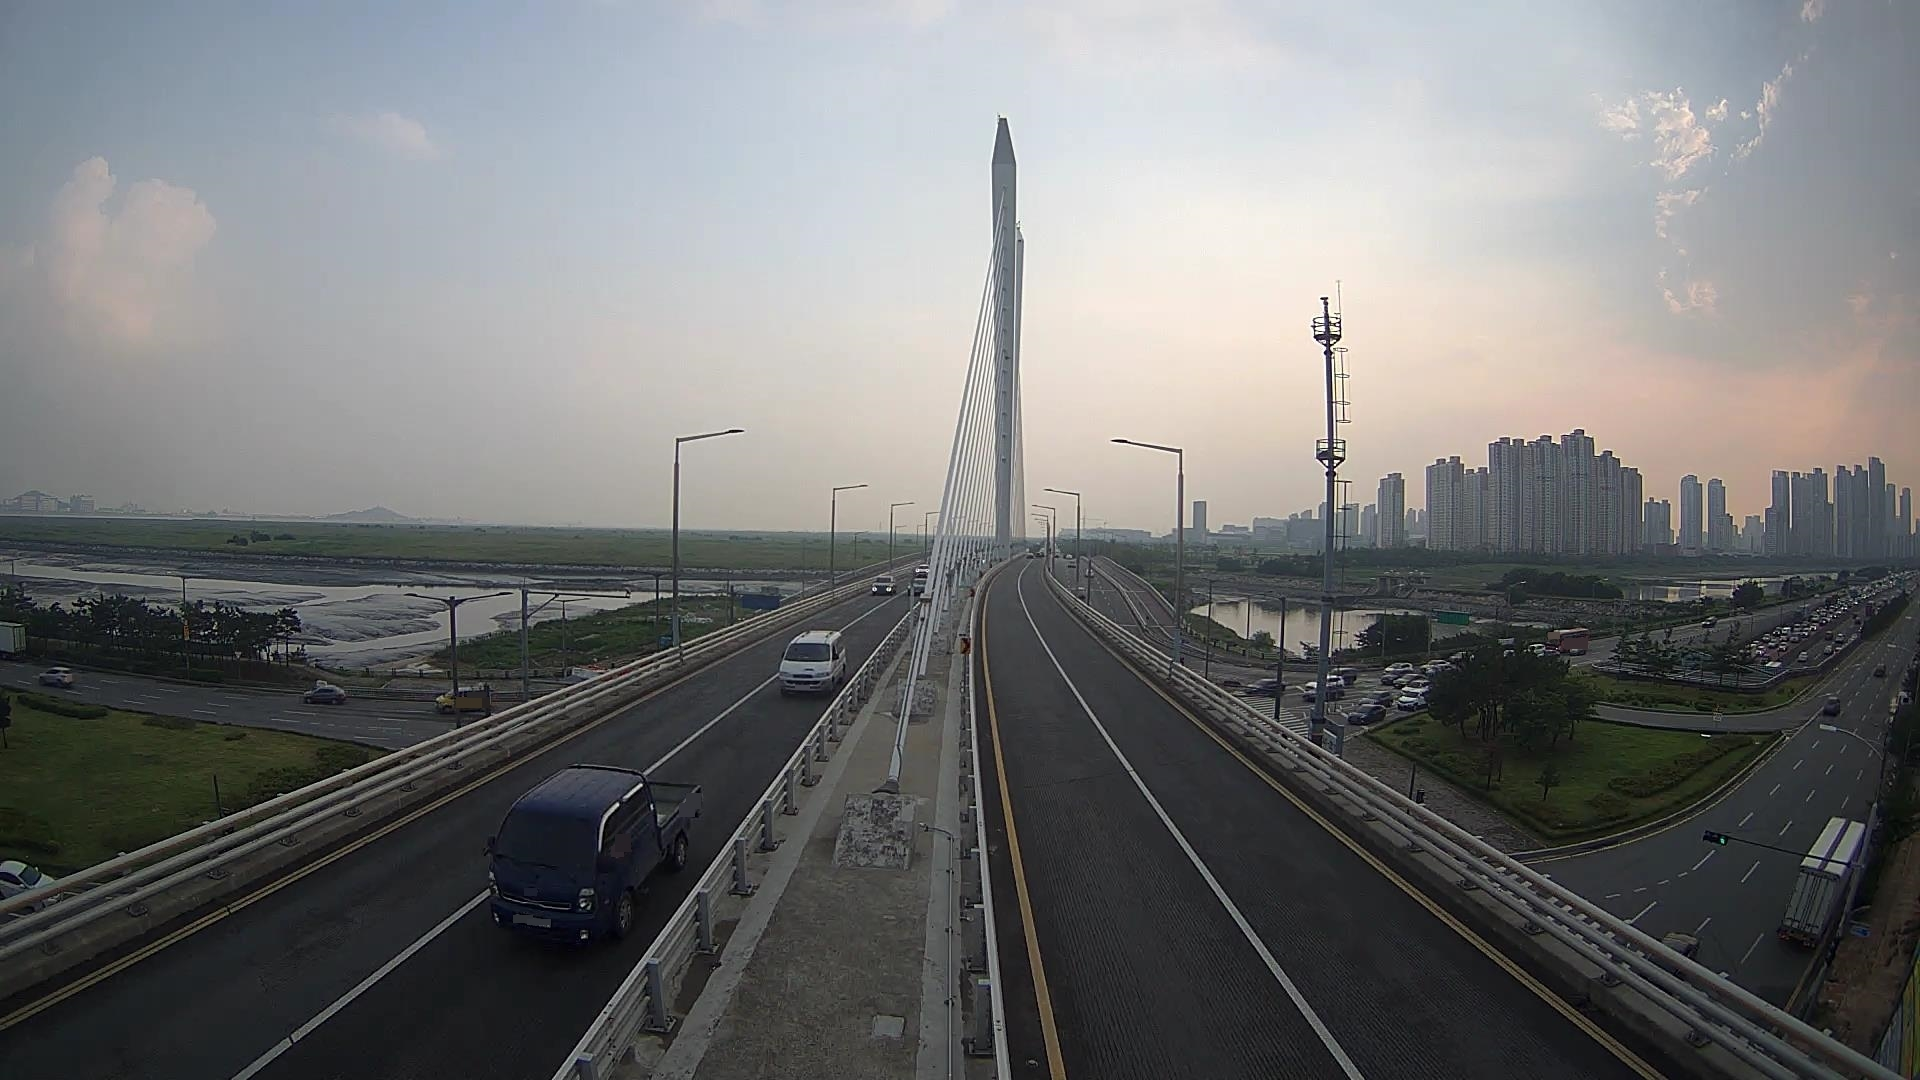정상차량: (479, 762, 708, 951)
